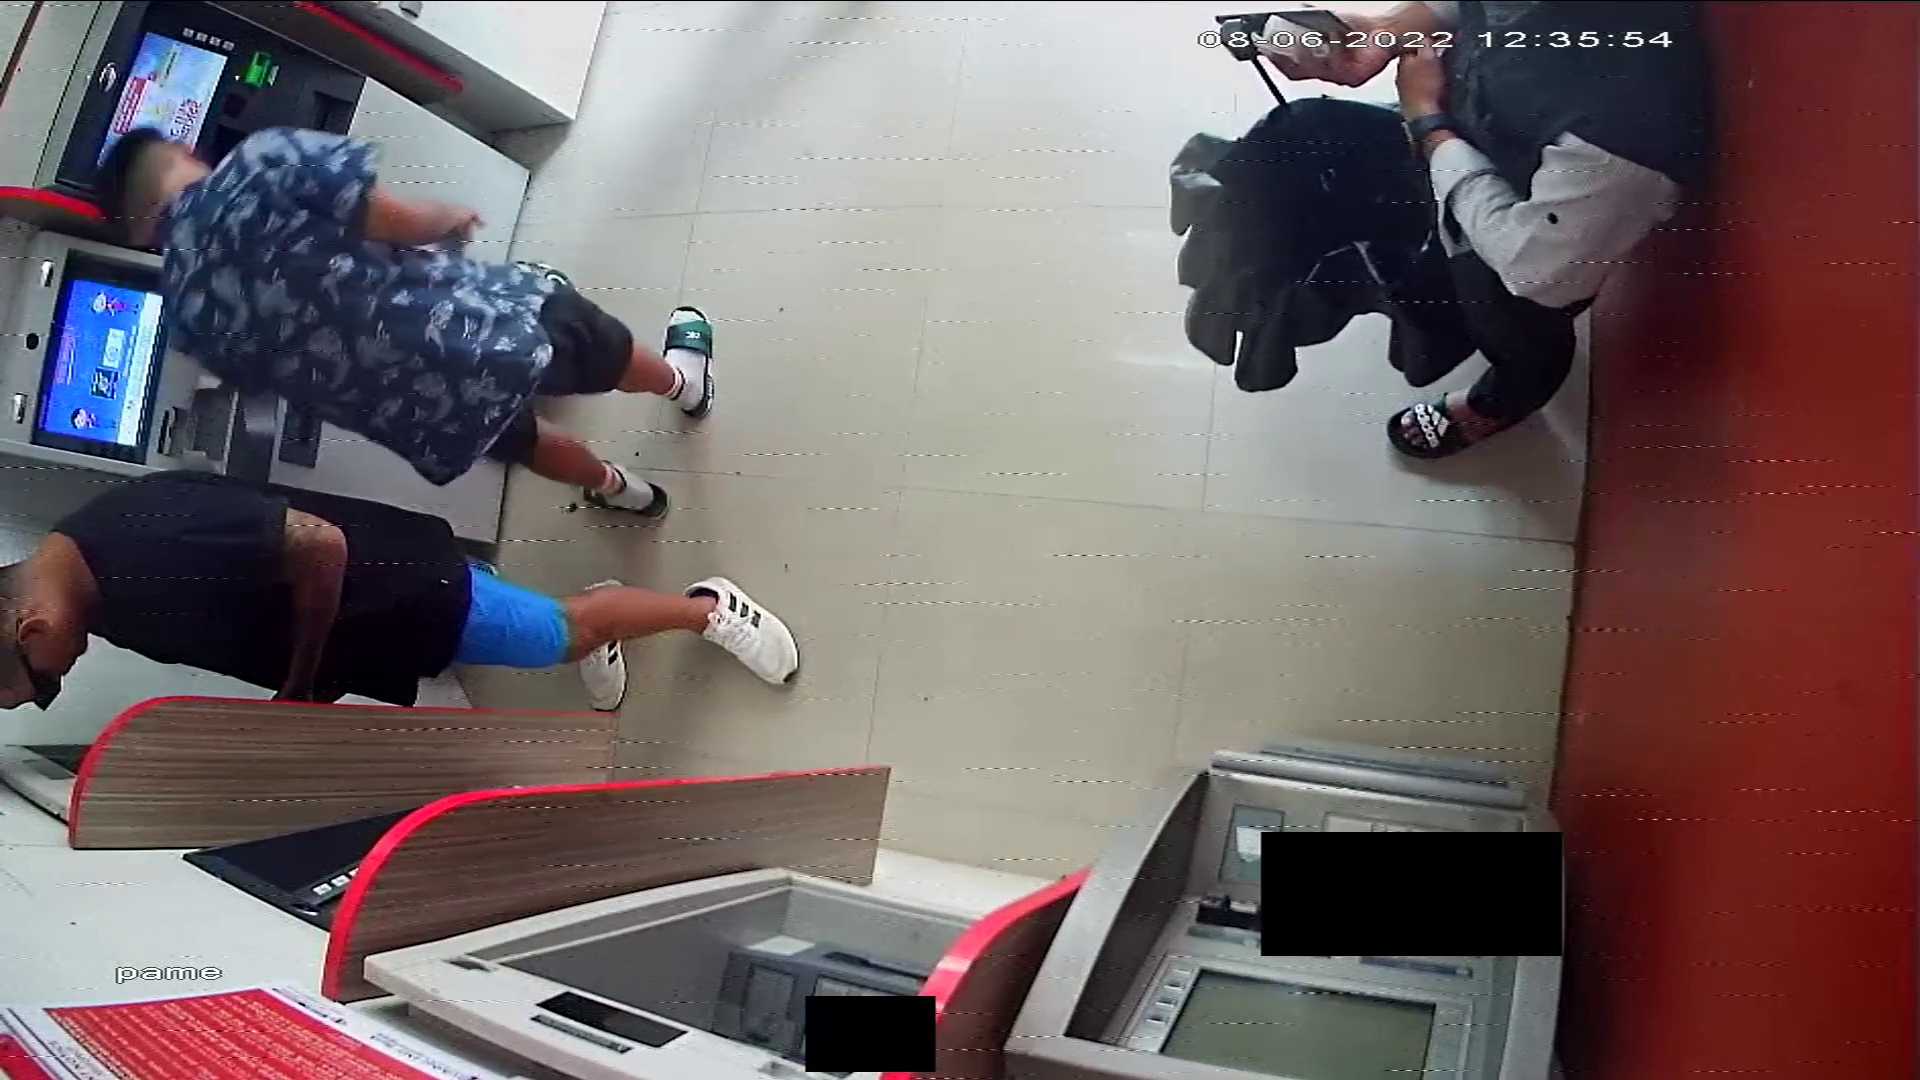person: (99, 124, 723, 522), (1227, 1, 1715, 460), (1, 474, 803, 714)
